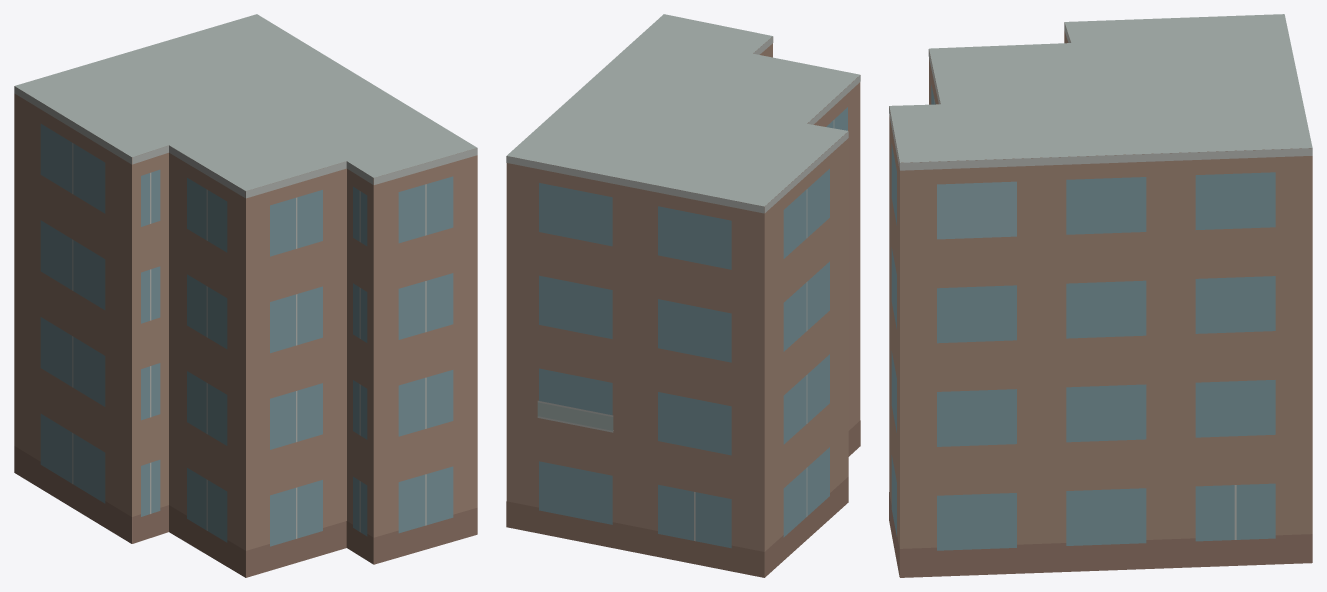
File: survey-upis-32723103.glb
3 renders of one model, left to right at view 1: azimuth 30°, elevation 25°; view 2: azimuth 150°, elevation 25°; view 3: azimuth 270°, elevation 25°, orthographic. The views are drawn at different scales.
Parts seen in each view (by area): view 1: survey-upis-32723103.tmp; view 2: survey-upis-32723103.tmp; view 3: survey-upis-32723103.tmp.
Part boxes in pixels (bbox=[...]): survey-upis-32723103.tmp: bbox=[14, 14, 477, 577]; survey-upis-32723103.tmp: bbox=[506, 14, 860, 577]; survey-upis-32723103.tmp: bbox=[889, 14, 1312, 577].
Bounding box in the file's own units: 9.93 × 12.9 × 11.93.
